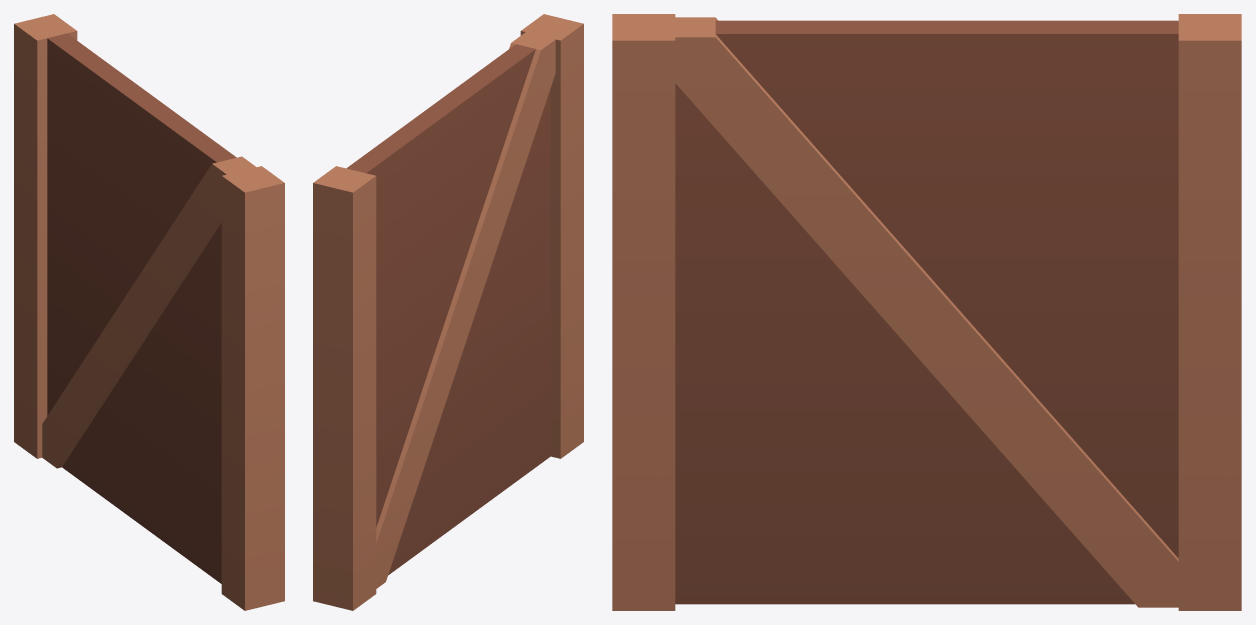
Rendered from wall-kn-wall-wood-detail-diagonal.glb.
3 views of the same model, side by side, from view 1: azimuth 30°, elevation 25°; view 2: azimuth 150°, elevation 25°; view 3: azimuth 270°, elevation 25° (orthographic). The views are drawn at different scales.
Parts seen in each view (by area): view 1: wall-wood-detail-diagonal; view 2: wall-wood-detail-diagonal; view 3: wall-wood-detail-diagonal.
Part boxes in pixels (x1,y1,x2,y2): wall-wood-detail-diagonal: (14,14,284,610); wall-wood-detail-diagonal: (313,14,583,610); wall-wood-detail-diagonal: (612,14,1241,610).
Bounding box in the file's own units: 0.3 × 3 × 3.
Materials: 1 (1 with a texture image).
